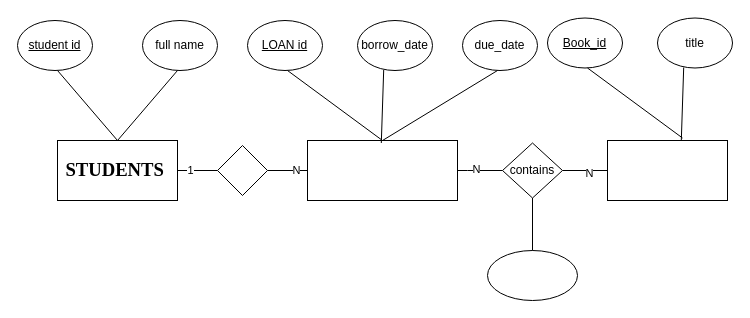
The diagram is 750 pixels wide and 318 high, and some of its shapes have lost their labels. Here are the shapes that lost their labels. From the top down, the box of each, then its label:
(216, 144, 268, 196): Has
(306, 140, 458, 200): LOAN_CARDS
(606, 140, 728, 200): BOOKS
(486, 250, 578, 300): Status (đã trả/ chưa trả)
